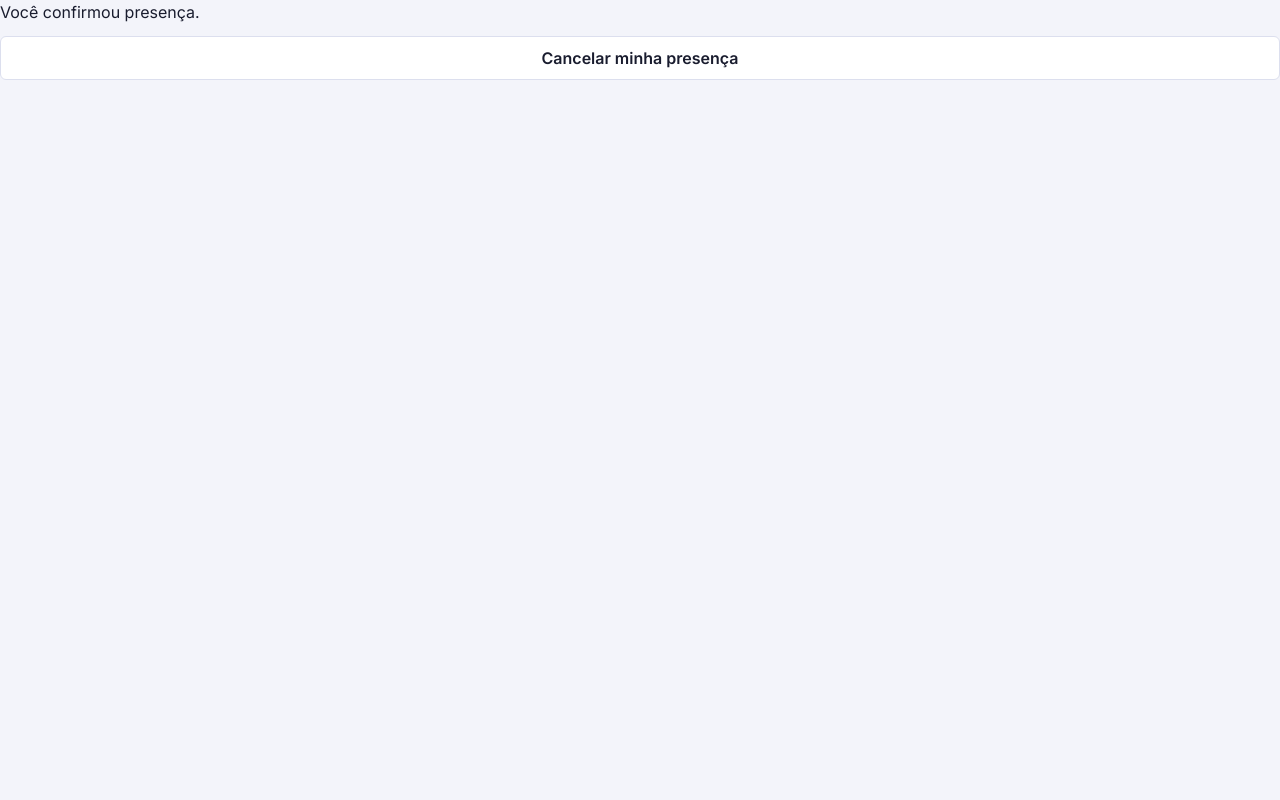
it: tela do encontro › pede confirmação explícita com verbo literal antes de cancelar
The width and height of the screenshot is (1280, 800).
Later steps or results of the test are not shown.
Click the button "Cancelar minha presença" at (640, 58), box [0,36,1279,80]
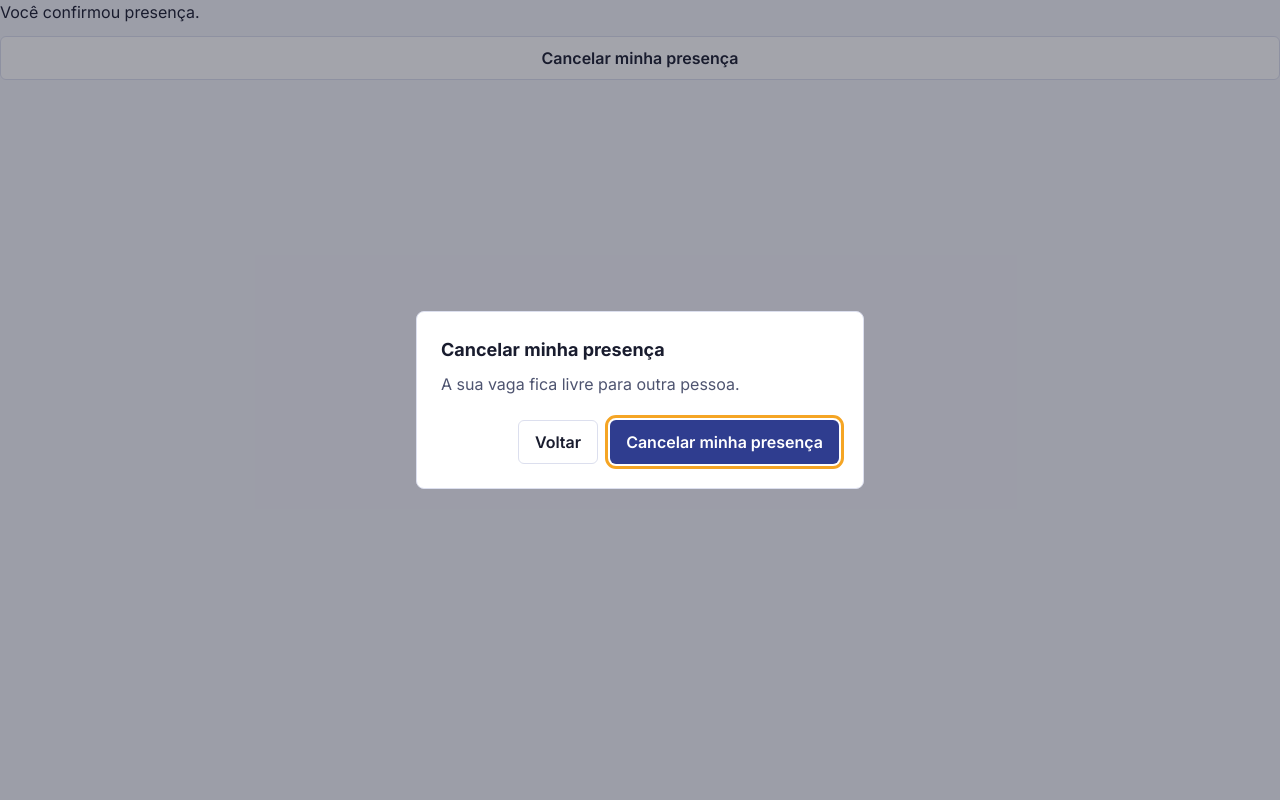
Check: the dialog shows "Cancelar minha presença", box [441,339,665,360]
